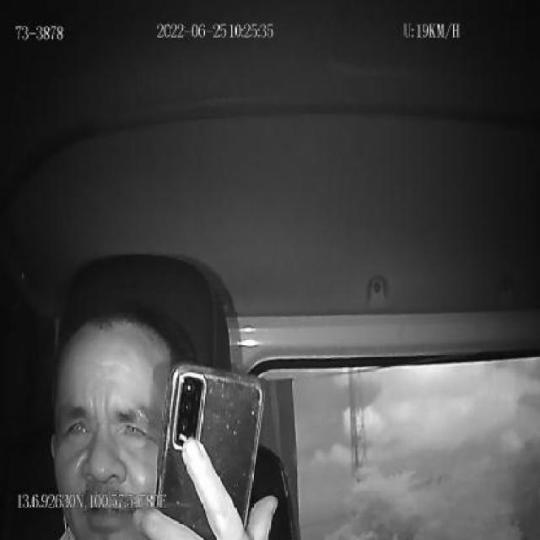phone: (156, 359, 264, 540)
